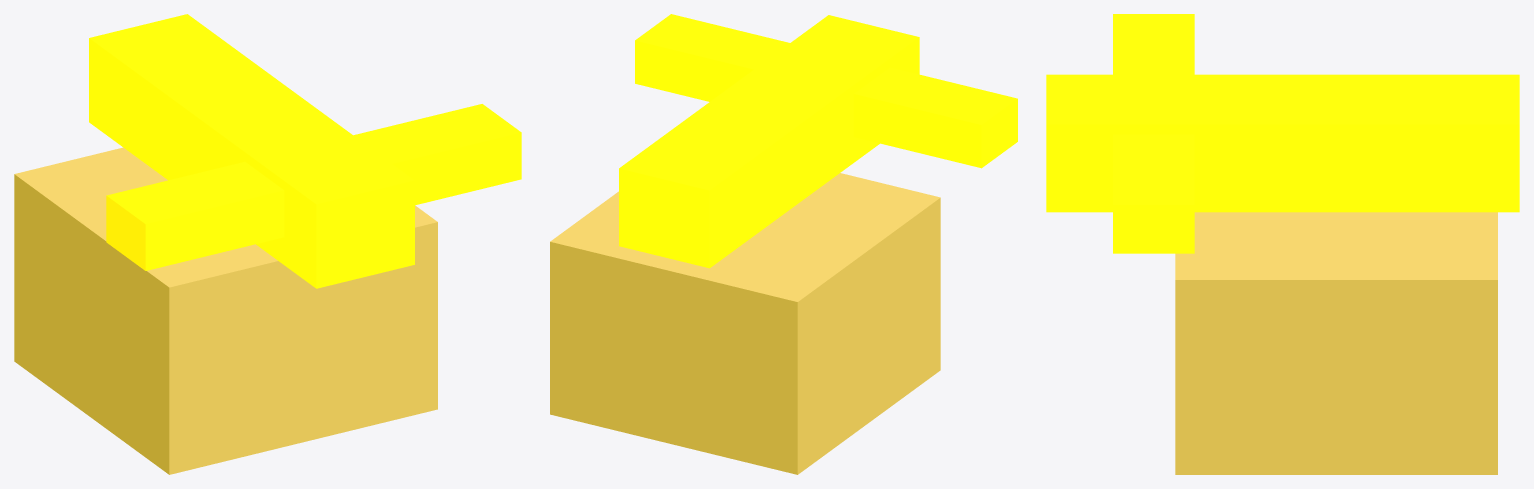
Rendered from turret_balista.glb.
3 renders of one model, left to right at view 1: azimuth 30°, elevation 25°; view 2: azimuth 150°, elevation 25°; view 3: azimuth 270°, elevation 25°, orthographic. The views are drawn at different scales.
Parts seen in each view (by area): view 1: Base, Weapon, Bow; view 2: Base, Weapon, Bow; view 3: Base, Weapon, Bow.
Boxes of the visible parts, x1,y1,x2,y2 form: Base: (14, 147, 437, 474); Weapon: (89, 14, 414, 288); Bow: (106, 104, 521, 270); Base: (550, 173, 940, 474); Weapon: (619, 15, 919, 268); Bow: (635, 14, 1017, 168); Base: (1175, 212, 1497, 474); Weapon: (1046, 74, 1519, 212); Bow: (1113, 14, 1194, 253).
Size of the model in its own units: 2.1 by 1.57 by 2.2.
